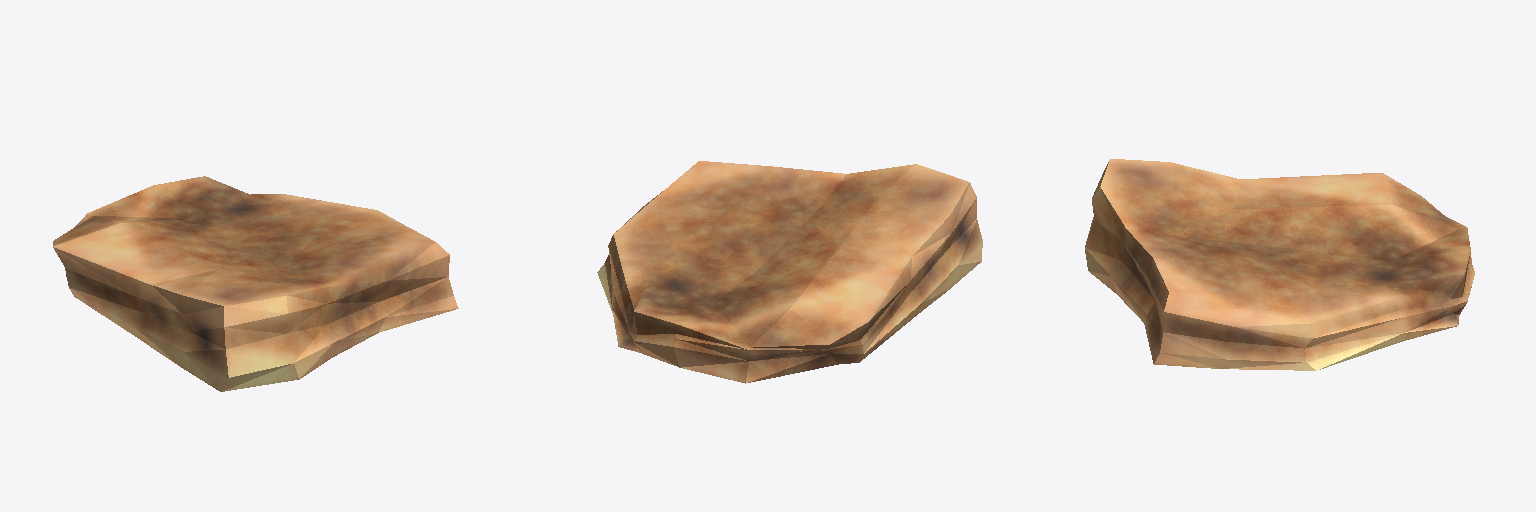
The picture shows the model from 3 angles: view 1: azimuth 30°, elevation 25°; view 2: azimuth 150°, elevation 25°; view 3: azimuth 270°, elevation 25°; orthographic projection.
Visible parts, largest first — view 1: Rock2; view 2: Rock2; view 3: Rock2.
Part boxes in pixels (left/top/right/bottom): Rock2: left=53, top=176, right=458, bottom=391; Rock2: left=597, top=161, right=982, bottom=383; Rock2: left=1085, top=159, right=1474, bottom=370.
Size of the model in its own units: 2.67 by 0.6772 by 2.96.
1 materials, 1 textured.